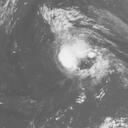cyclone: (54, 38, 98, 78)
